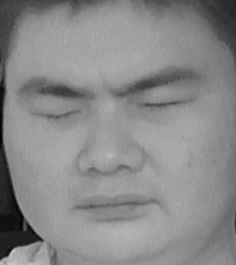blink: (33, 98, 82, 129), (141, 89, 190, 119)
mouth: (77, 184, 159, 228)
